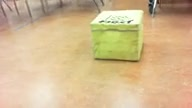cube: (91, 9, 143, 63)
